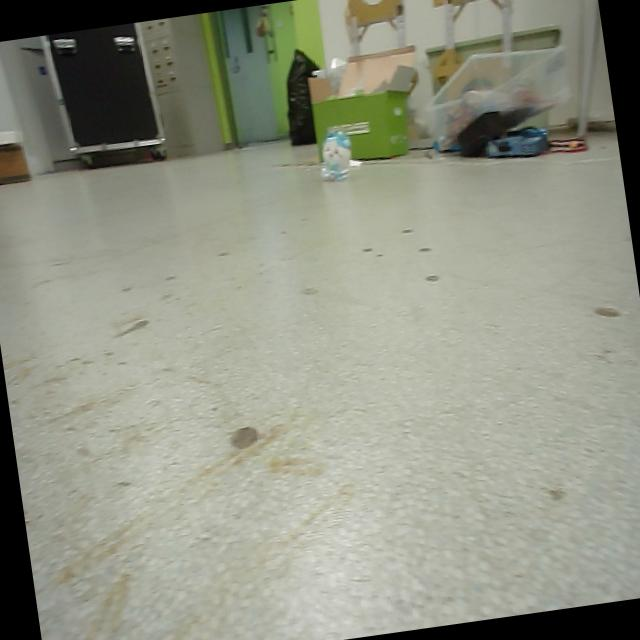xiaoba: (317, 129, 358, 187)
